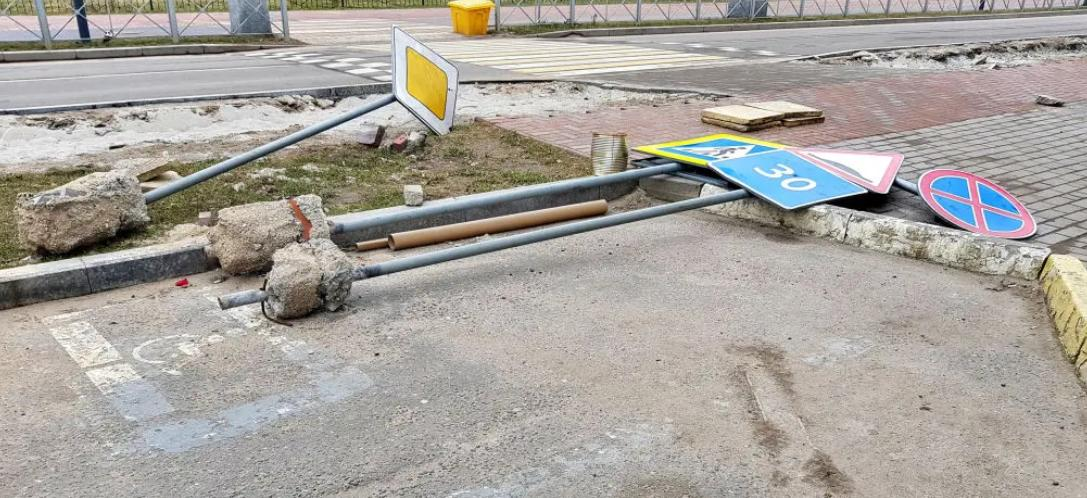obstructed_road_sign: (632, 133, 782, 168)
road_sign: (917, 169, 1035, 238), (392, 28, 457, 134), (791, 147, 902, 193)
